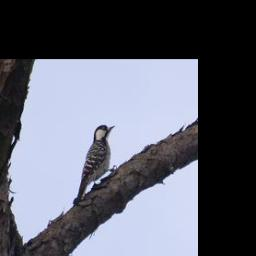Woodpecker: (69, 119, 120, 210)
